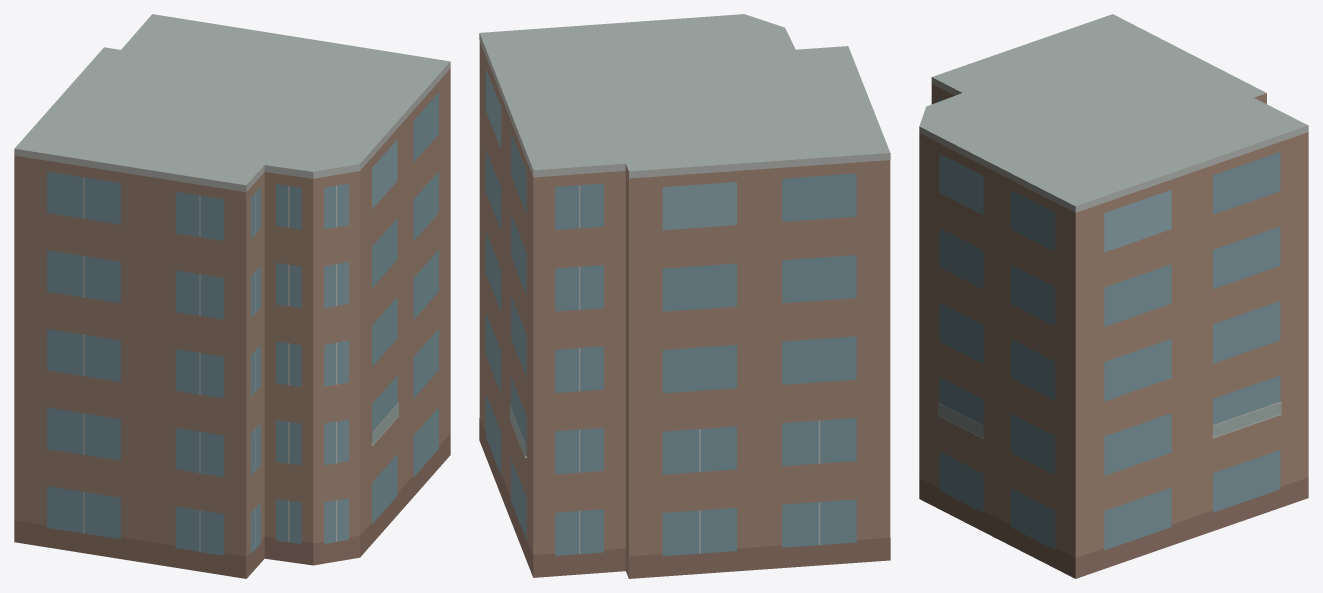
File: survey-upis-32846496.glb
3 views of the same model, side by side, from view 1: azimuth 30°, elevation 25°; view 2: azimuth 150°, elevation 25°; view 3: azimuth 270°, elevation 25° (orthographic). The views are drawn at different scales.
Parts seen in each view (by area): view 1: survey-upis-32846496.tmp; view 2: survey-upis-32846496.tmp; view 3: survey-upis-32846496.tmp.
Boxes of the visible parts, x1,y1,x2,y2 form: survey-upis-32846496.tmp: (14, 14, 450, 578); survey-upis-32846496.tmp: (479, 14, 890, 578); survey-upis-32846496.tmp: (919, 14, 1308, 578).
Size of the model in its own units: 15.52 by 14 by 13.28.
